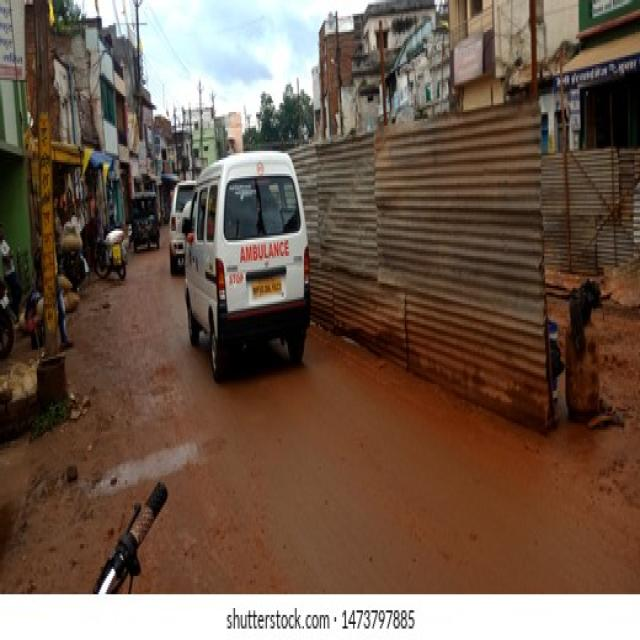ambulance: (184, 149, 312, 384)
